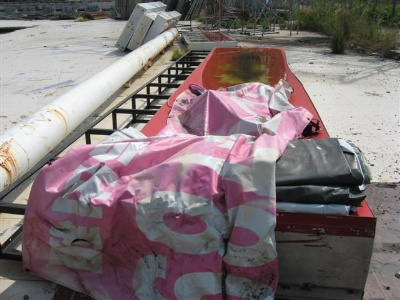plastic_bag: (22, 80, 314, 297)
